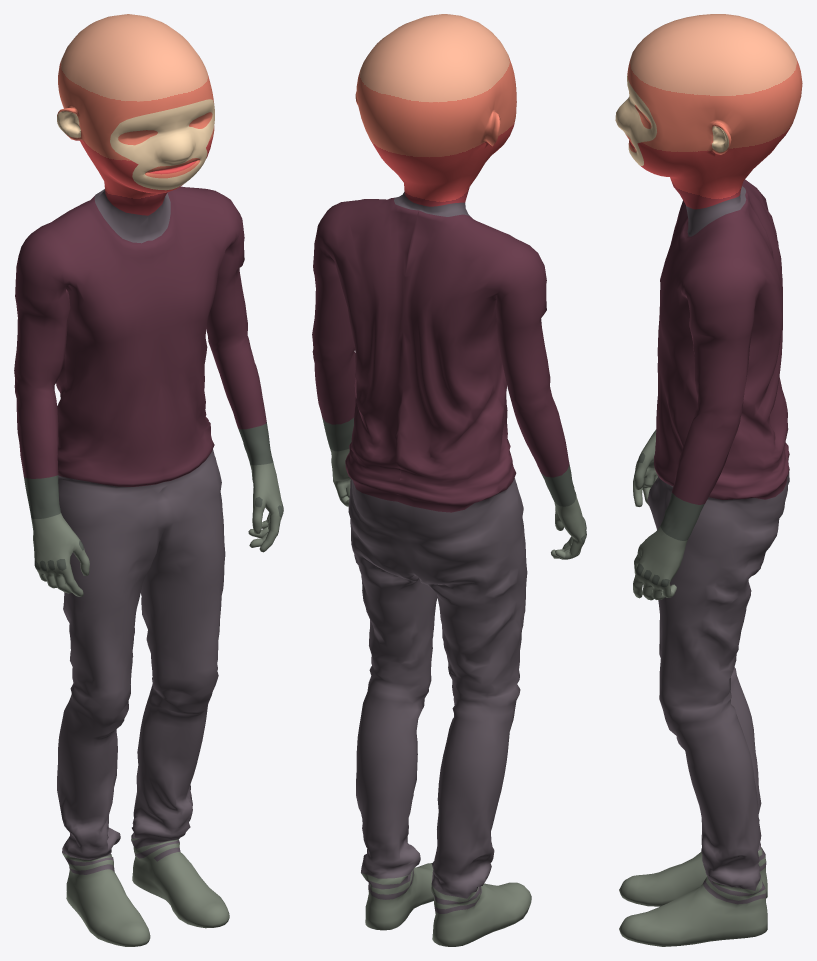
The model's file is enemy.glb.
The picture shows the model from 3 angles, left to right: view 1: azimuth 30°, elevation 25°; view 2: azimuth 150°, elevation 25°; view 3: azimuth 270°, elevation 25°; orthographic projection.
Visible parts, largest first — view 1: high_Poly.mo.001; view 2: high_Poly.mo.001; view 3: high_Poly.mo.001.
Part boxes in pixels (bbox=[...]): high_Poly.mo.001: bbox=[14, 14, 283, 946]; high_Poly.mo.001: bbox=[312, 14, 586, 946]; high_Poly.mo.001: bbox=[615, 14, 802, 946].
Bounding box in the file's own units: 0.5771 × 1.97 × 0.3735.
1 material, 1 textured.
